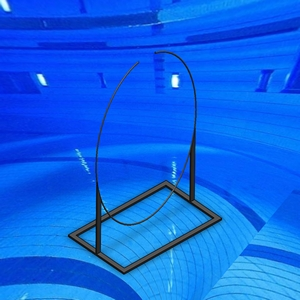circle: (68, 49, 223, 275)
